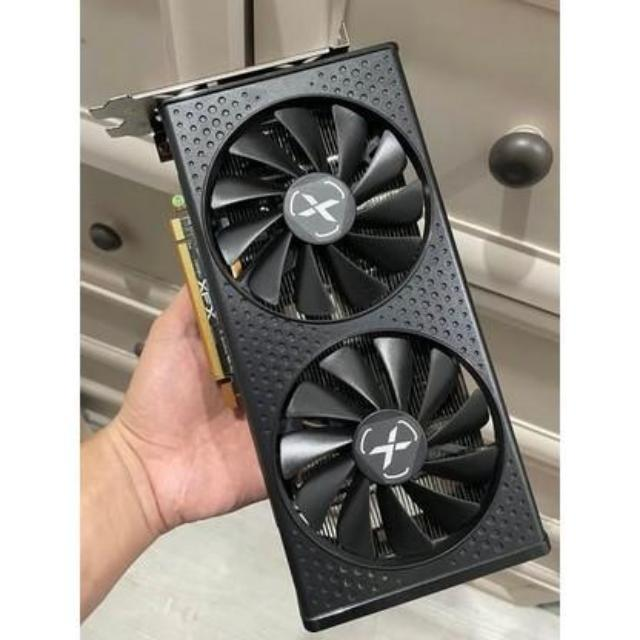GPU: (141, 30, 550, 628)
